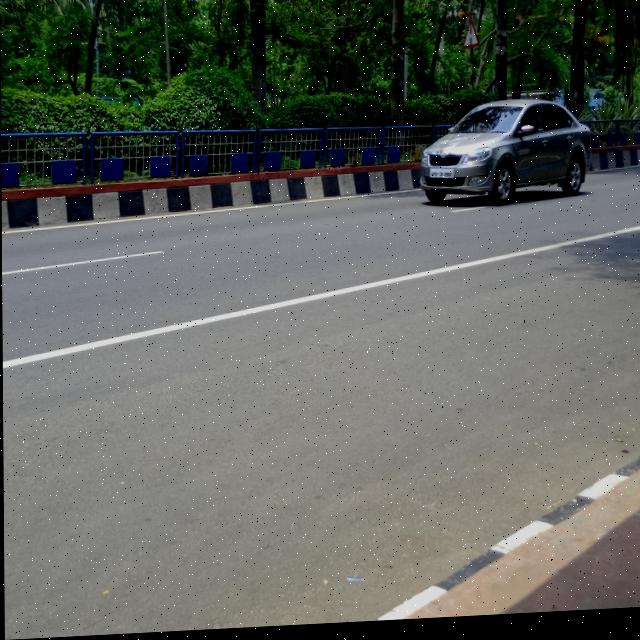car: (418, 87, 604, 234)
